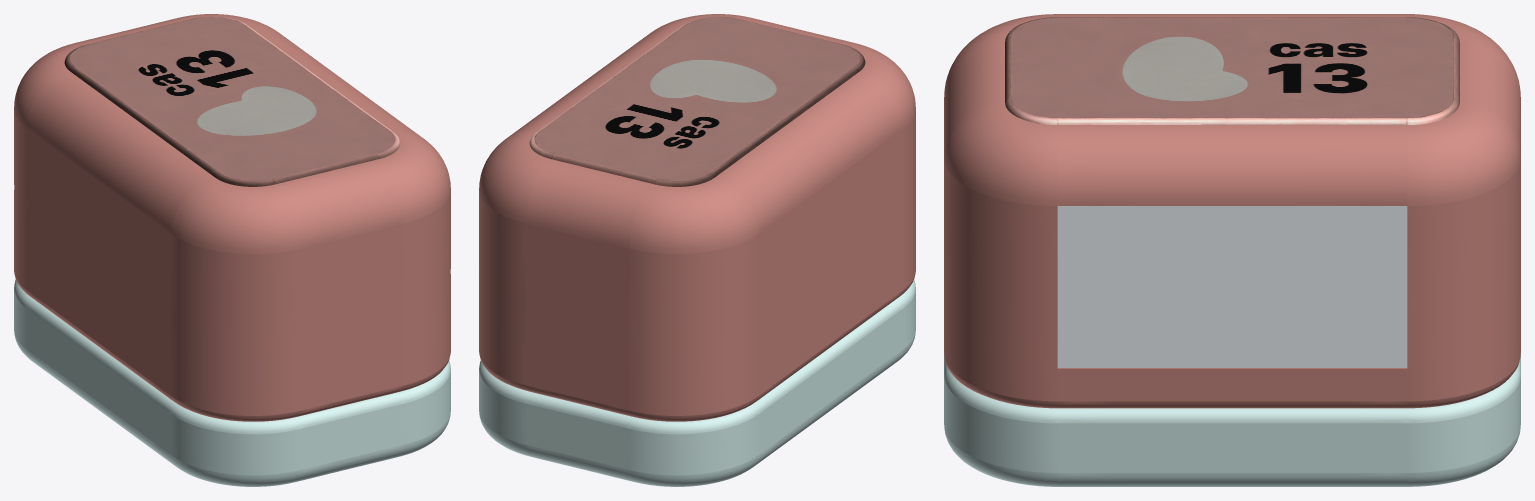
File: 误删源文件.fbx
3 views of the same model, side by side, from view 1: azimuth 30°, elevation 25°; view 2: azimuth 150°, elevation 25°; view 3: azimuth 270°, elevation 25° (orthographic). The views are drawn at different scales.
Visible parts, largest first — view 1: 物件_323, 物件_326, 物件_322; view 2: 物件_323, 物件_326, 物件_322; view 3: 物件_323, 物件_325, 物件_326, 物件_322.
Part boxes in pixels (x1,y1,x2,y2): 物件_323: (14,14,450,421); 物件_326: (64,16,400,186); 物件_322: (14,279,450,486); 物件_323: (479,14,915,421); 物件_326: (529,16,865,186); 物件_322: (479,279,915,486); 物件_323: (944,14,1520,408); 物件_325: (1057,206,1407,367); 物件_326: (1005,17,1459,124); 物件_322: (944,353,1520,486).
Bounding box in the file's own units: 12.69 × 13.15 × 19.71.
